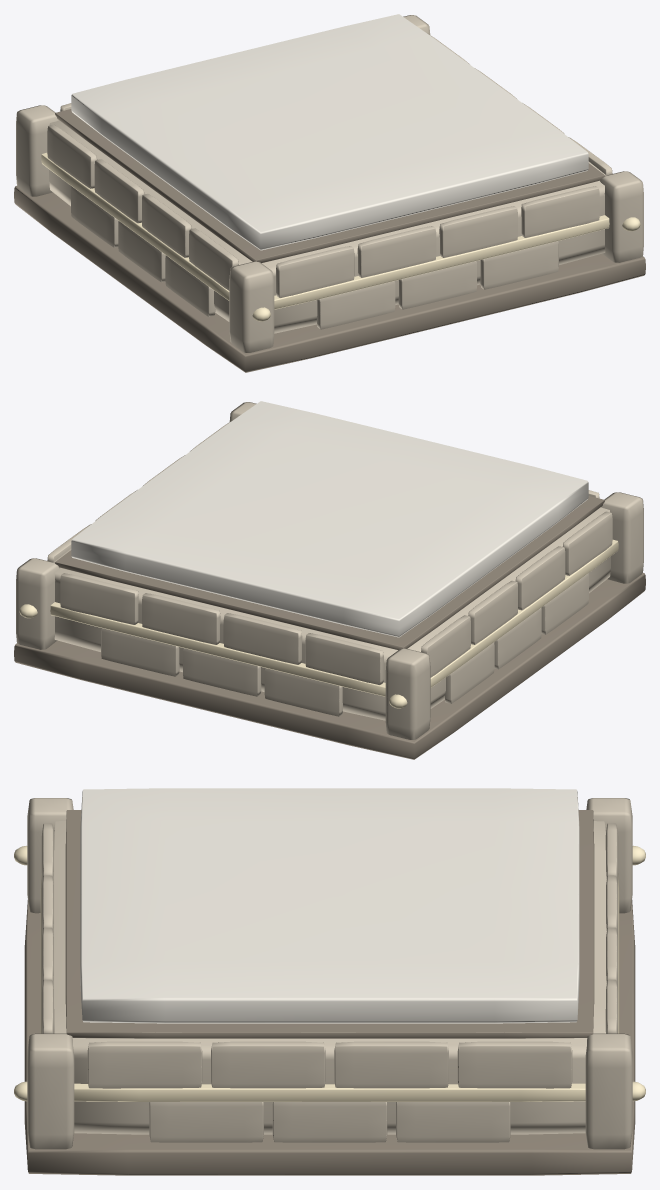
File: SkyStackBase.obj
The picture shows the model from 3 angles, top to bottom: view 1: azimuth 30°, elevation 25°; view 2: azimuth 150°, elevation 25°; view 3: azimuth 270°, elevation 25°; orthographic projection. The views are drawn at different scales.
Parts seen in each view (by area): view 1: Top, Stone, Dark, Trim; view 2: Top, Stone, Dark, Trim; view 3: Top, Stone, Dark, Trim.
Part boxes in pixels (bbox=[...]): Top: bbox=[71, 14, 588, 250]; Stone: bbox=[16, 15, 643, 352]; Dark: bbox=[14, 109, 645, 372]; Trim: bbox=[41, 152, 640, 321]; Top: bbox=[71, 401, 588, 637]; Stone: bbox=[16, 402, 643, 739]; Dark: bbox=[14, 496, 645, 759]; Trim: bbox=[19, 539, 618, 708]; Top: bbox=[80, 788, 579, 1023]; Stone: bbox=[27, 798, 632, 1149]; Dark: bbox=[24, 810, 635, 1175]; Trim: bbox=[14, 845, 645, 1101].
Size of the model in its own units: 10.4 by 3 by 10.76.
